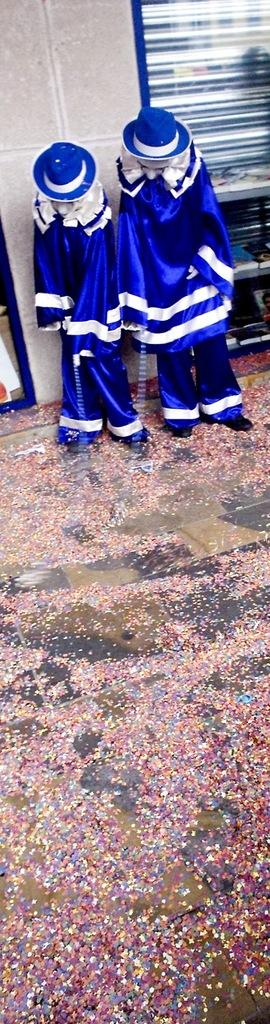Hat: (28, 142, 98, 202), (119, 104, 189, 160)
